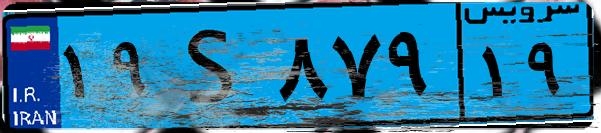1: (57, 26, 110, 100), (475, 38, 525, 113)
7: (330, 28, 385, 110)
8: (270, 28, 330, 110)
9: (385, 28, 445, 110), (525, 38, 570, 115), (110, 28, 158, 98)
S: (158, 12, 270, 120)
